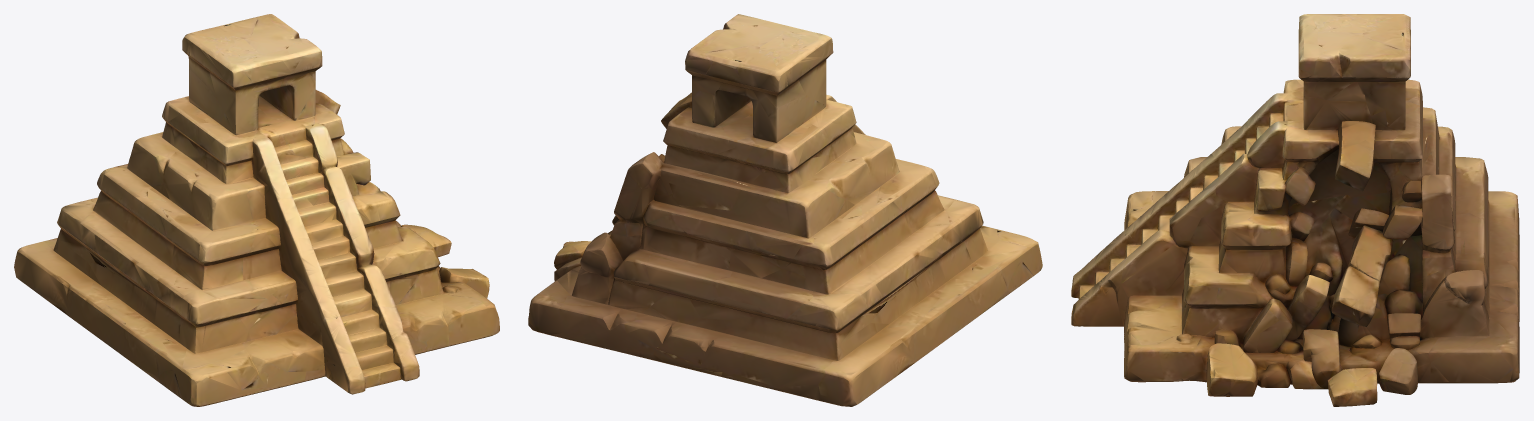
The model's file is mayan_pbr.glb.
3 views of the same model, side by side, from view 1: azimuth 30°, elevation 25°; view 2: azimuth 150°, elevation 25°; view 3: azimuth 270°, elevation 25° (orthographic). The views are drawn at different scales.
Visible parts, largest first — view 1: model; view 2: model; view 3: model.
Part boxes in pixels (<box>): model: <box>14,14,499,406</box>; model: <box>528,14,1042,406</box>; model: <box>1071,14,1519,406</box>.
Bounding box in the file's own units: 1.69 × 1.15 × 1.71.
1 material, 1 textured.
